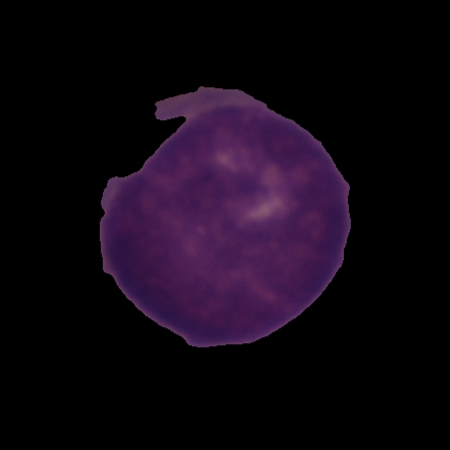HEM: (96, 83, 354, 350)
